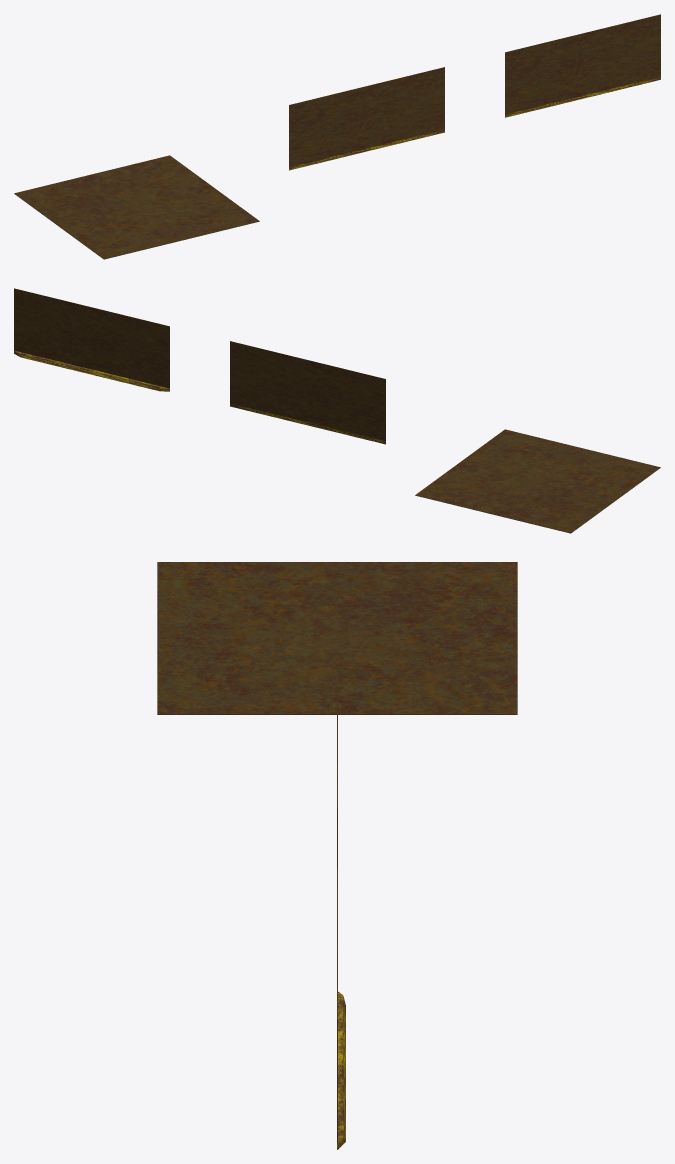
Rendered from wall_1.fbx.
3 views of the same model, one above another, from view 1: azimuth 30°, elevation 25°; view 2: azimuth 150°, elevation 25°; view 3: azimuth 270°, elevation 25° (orthographic). The views are drawn at different scales.
Parts seen in each view (by area): view 1: BronzWall_2, BronzFloor, BronzWall; view 2: BronzWall_2, BronzWall, BronzFloor; view 3: BronzWall_2, BronzWall.
Part boxes in pixels (bbox=[...]): BronzWall_2: bbox=[14, 155, 259, 259]; BronzFloor: bbox=[289, 67, 444, 170]; BronzWall: bbox=[505, 14, 660, 117]; BronzWall_2: bbox=[415, 429, 660, 533]; BronzWall: bbox=[14, 288, 169, 391]; BronzFloor: bbox=[230, 341, 385, 444]; BronzWall_2: bbox=[157, 562, 517, 714]; BronzWall: bbox=[337, 867, 345, 1149].
Bounding box in the file's own units: 77.2 × 8.01 × 20.
